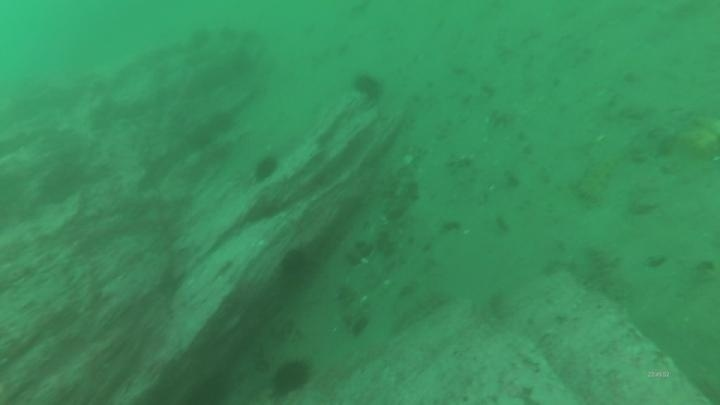echinus: (268, 356, 314, 399), (277, 245, 316, 286), (350, 70, 386, 103), (250, 152, 282, 185)
holothurian: (576, 243, 631, 304), (573, 143, 627, 204), (388, 287, 452, 336)
